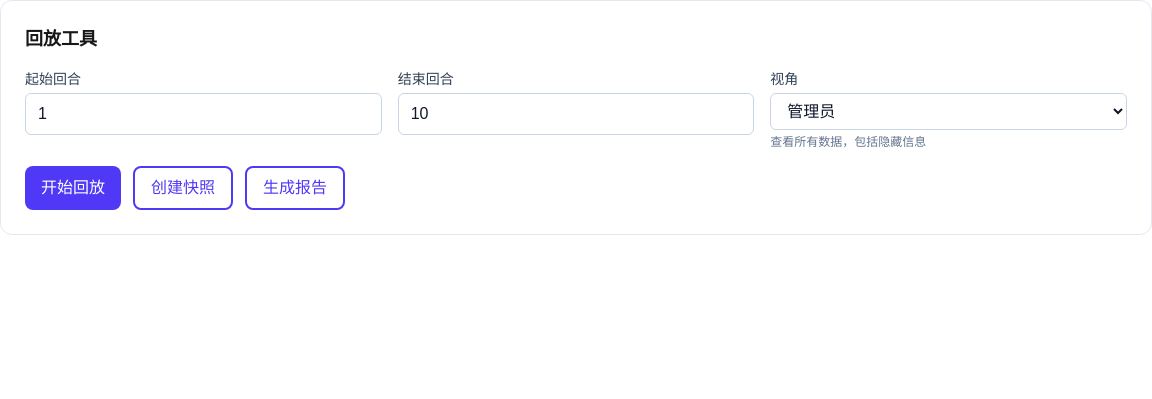
ReplayControls › displays error message on API failure
Click the button "开始回放": (73, 188) [25,166,121,210]
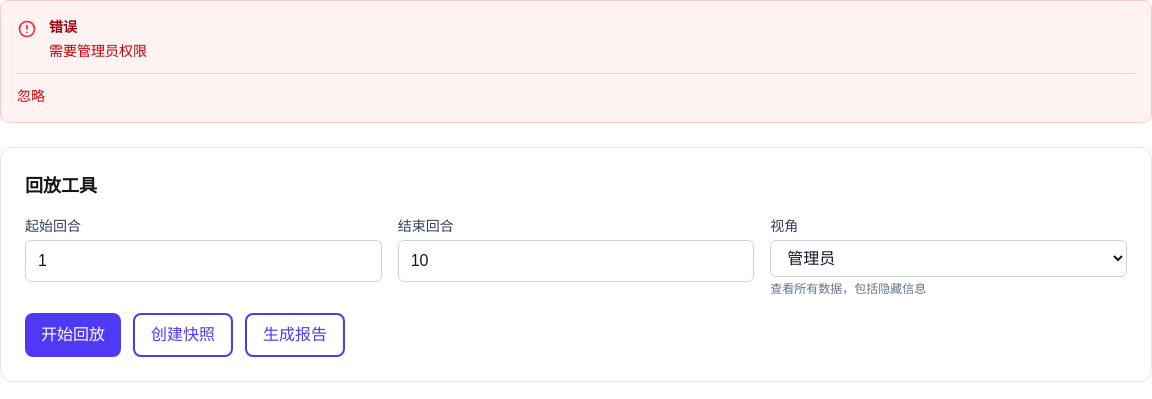
Expected: the text "需要管理员权限" is shown, [49,43,147,59]
